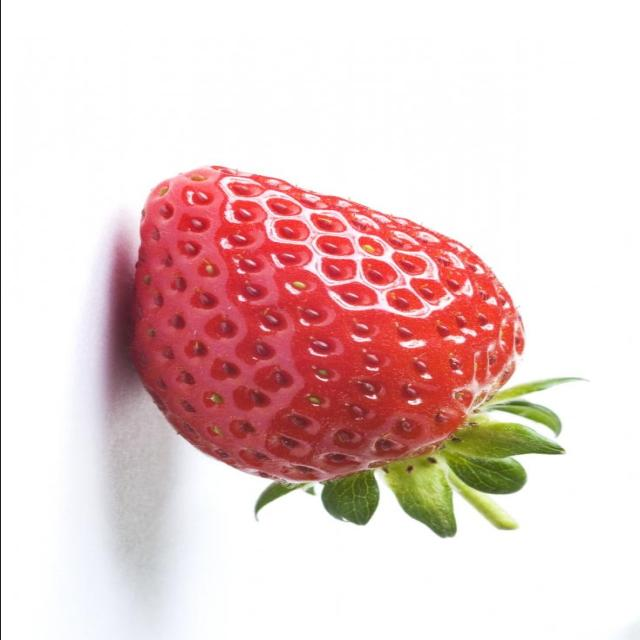strawberry: (95, 151, 588, 557)
